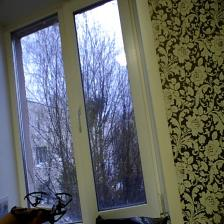drone: (10, 191, 75, 224)
